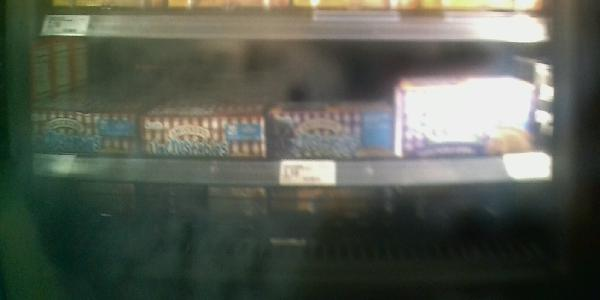icecream: (396, 68, 536, 157), (268, 102, 395, 159), (143, 111, 269, 164), (28, 104, 142, 159)
